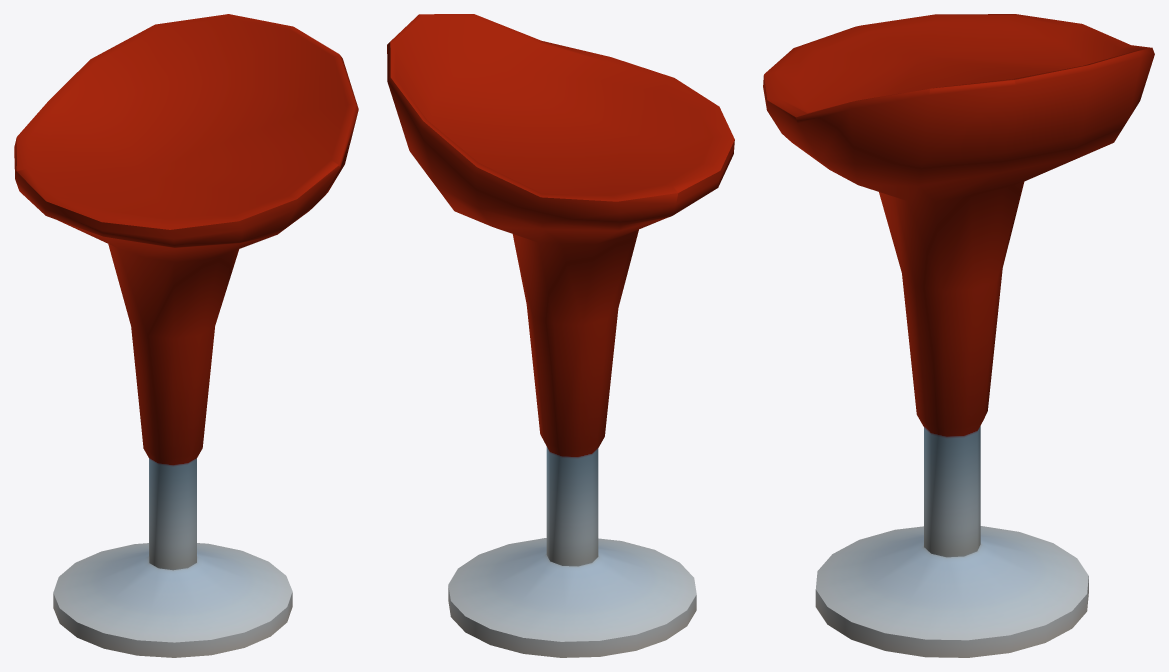
The model's file is Stool_Tall.fbx.
3 renders of one model, left to right at view 1: azimuth 30°, elevation 25°; view 2: azimuth 150°, elevation 25°; view 3: azimuth 270°, elevation 25°, orthographic. The views are drawn at different scales.
Parts seen in each view (by area): view 1: Empty_Mesh; view 2: Empty_Mesh; view 3: Empty_Mesh.
Boxes of the visible parts, x1=… form: Empty_Mesh: x1=14, y1=14, x2=358, y2=657; Empty_Mesh: x1=387, y1=14, x2=734, y2=657; Empty_Mesh: x1=763, y1=14, x2=1154, y2=657.
Bounding box in the file's own units: 48.58 × 82.85 × 48.8.
